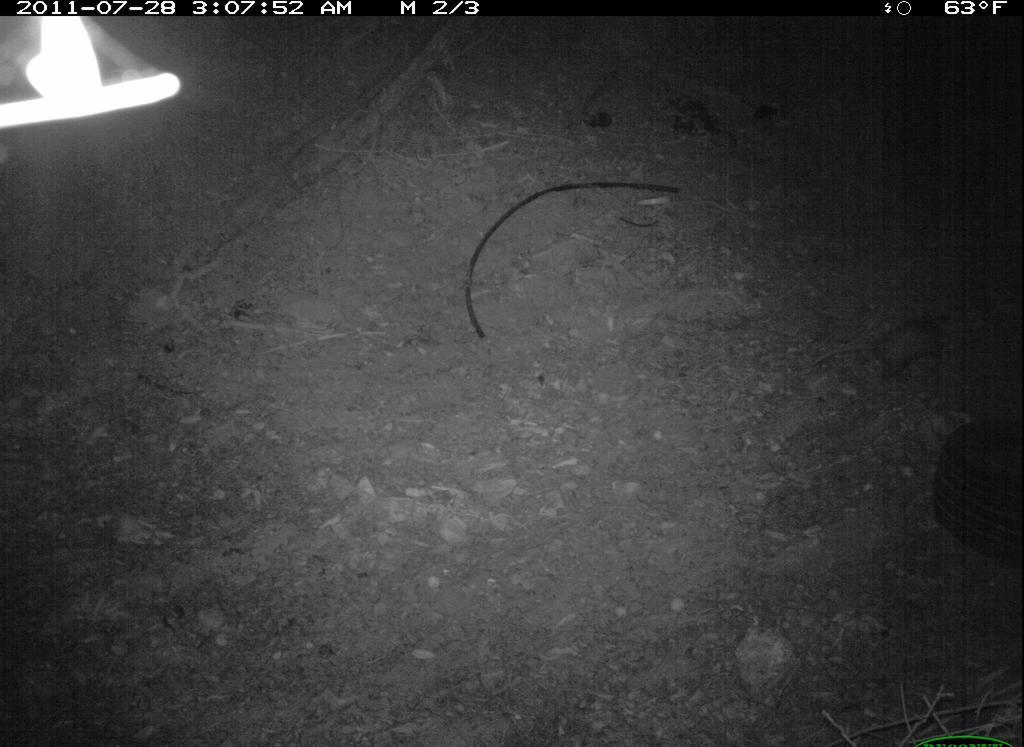opossum: (801, 287, 977, 396)
